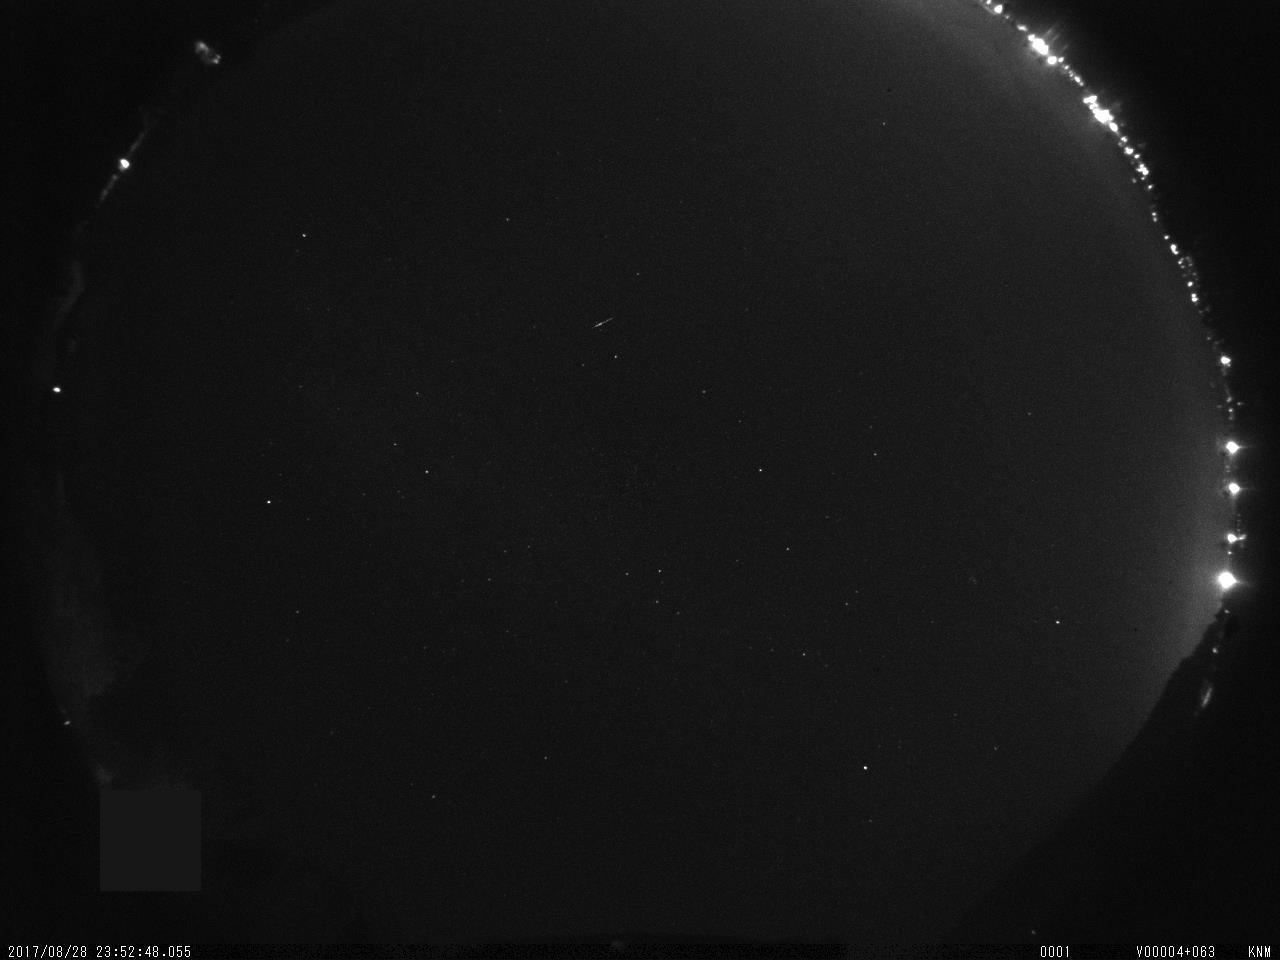Meteor: (589, 313, 617, 334)
